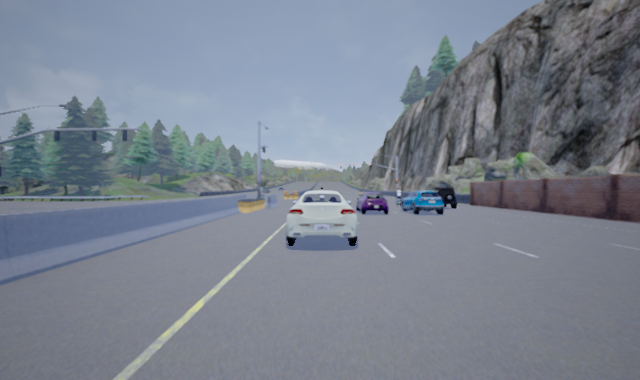vehicle: (281, 189, 362, 251), (398, 189, 448, 216), (422, 186, 460, 209), (355, 191, 390, 215)
